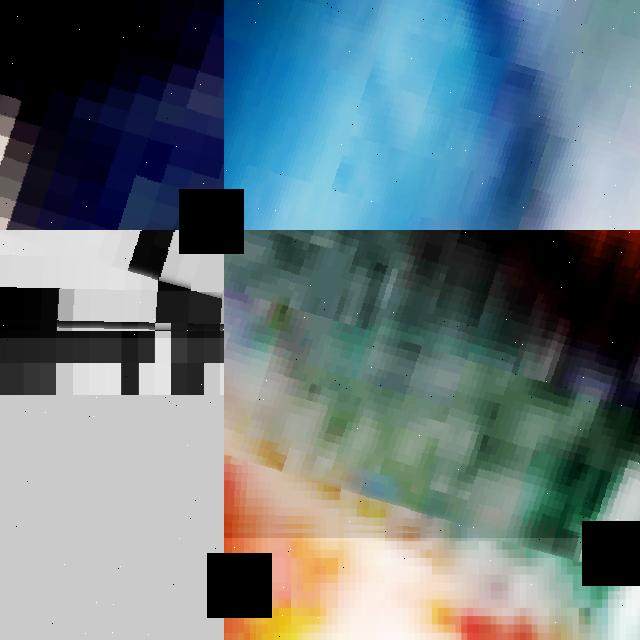arms: (224, 230, 638, 640), (224, 230, 640, 538), (224, 0, 640, 230), (0, 230, 224, 640), (0, 0, 224, 230), (0, 230, 224, 338)
